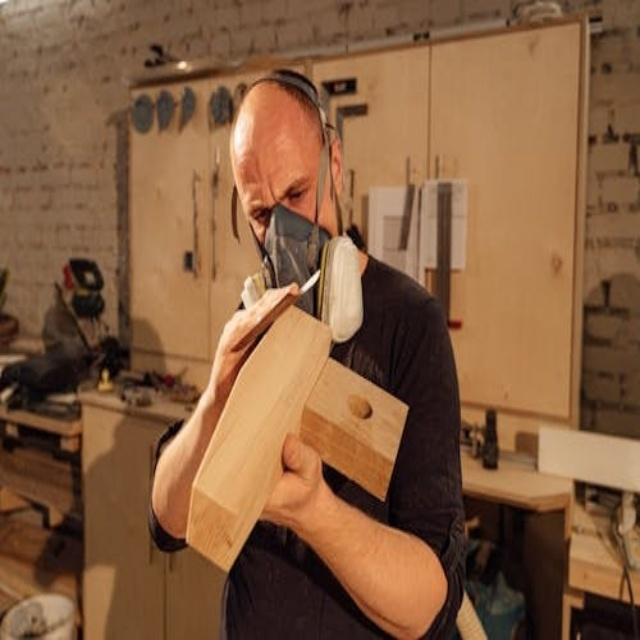Mascara: (242, 198, 366, 342)
Sin_gafas: (246, 160, 312, 234)
Sin_guantes: (253, 421, 319, 532)
